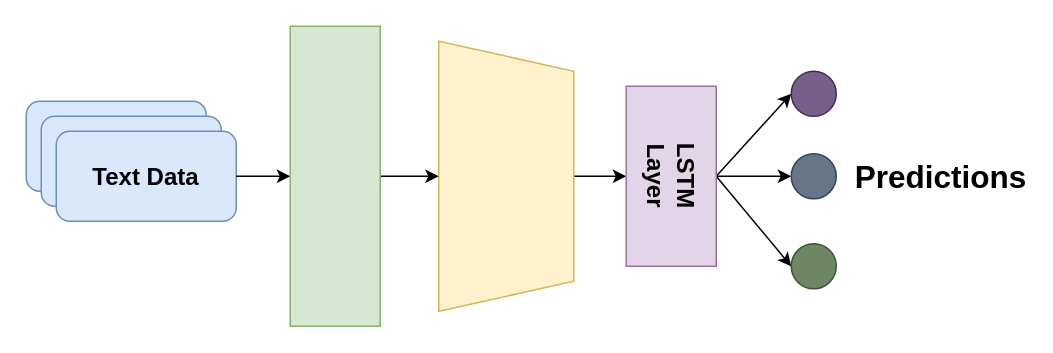
The diagram is 1053 pixels wide and 353 high, and some of its shapes have lost their labels. The centre of each missing label's shape, as x and y in pixels:
"CNN Layer" goes at point (505, 175).
"Embedding Layer" goes at point (334, 175).
